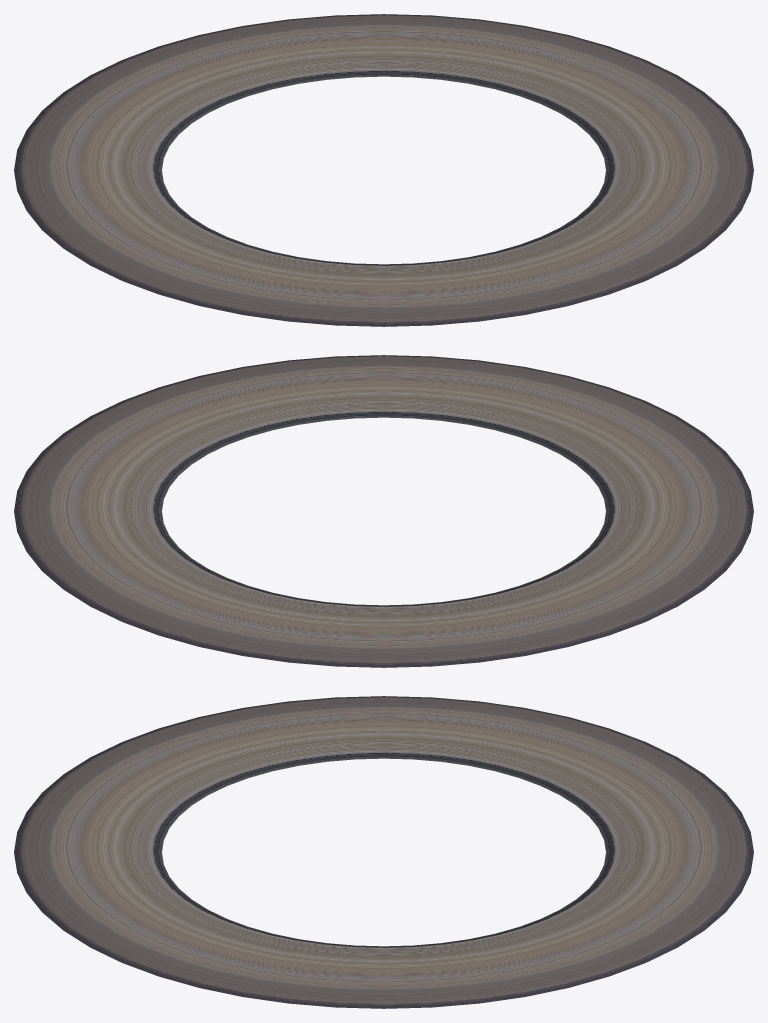
File: SaturnRings.obj
3 views of the same model, one above another, from view 1: azimuth 30°, elevation 25°; view 2: azimuth 150°, elevation 25°; view 3: azimuth 270°, elevation 25° (orthographic).
Visible parts, largest first — view 1: Torus; view 2: Torus; view 3: Torus.
Part boxes in pixels (x1=…): Torus: x1=14, y1=14, x2=753, y2=326; Torus: x1=14, y1=355, x2=753, y2=667; Torus: x1=14, y1=696, x2=753, y2=1008.
Bounding box in the file's own units: 32.5 × 0.4946 × 32.5.
1 material, 1 textured.
